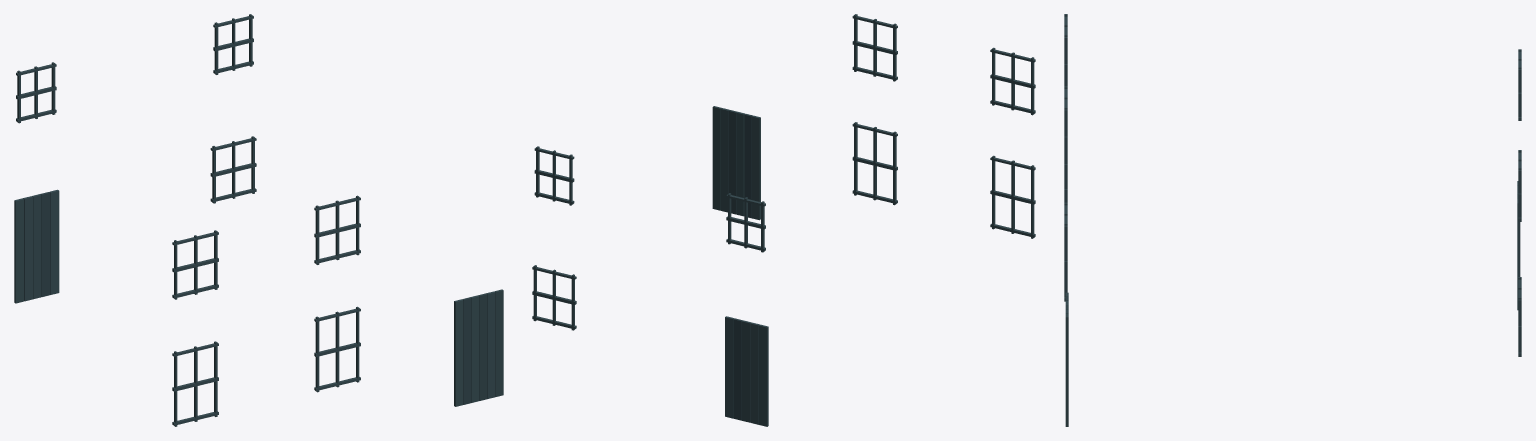
Rendered from SM_Bld_079_Wood.glb.
3 renders of one model, left to right at view 1: azimuth 30°, elevation 25°; view 2: azimuth 150°, elevation 25°; view 3: azimuth 270°, elevation 25°, orthographic. The views are drawn at different scales.
Visible parts, largest first — view 1: SM_Bld_079_Wood; view 2: SM_Bld_079_Wood; view 3: SM_Bld_079_Wood.
Part boxes in pixels (box(x1,y1,x2,y2)): SM_Bld_079_Wood: box(14, 14, 503, 426); SM_Bld_079_Wood: box(532, 14, 1035, 426); SM_Bld_079_Wood: box(1064, 14, 1521, 426).
Size of the model in its own units: 6.76 by 4.58 by 7.75.
